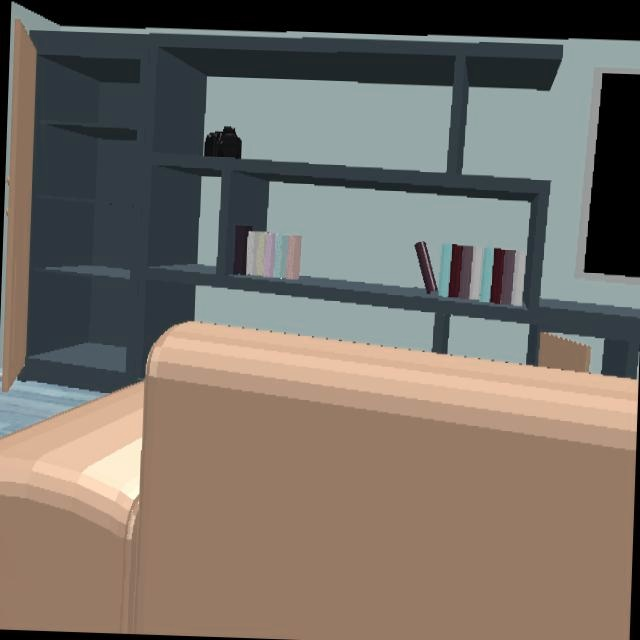book: (414, 242, 515, 302), (243, 231, 301, 280)
bookshelf: (135, 48, 640, 378)
monitor: (581, 68, 640, 281)
shelf: (1, 19, 165, 394)
sofa: (0, 321, 638, 640)
